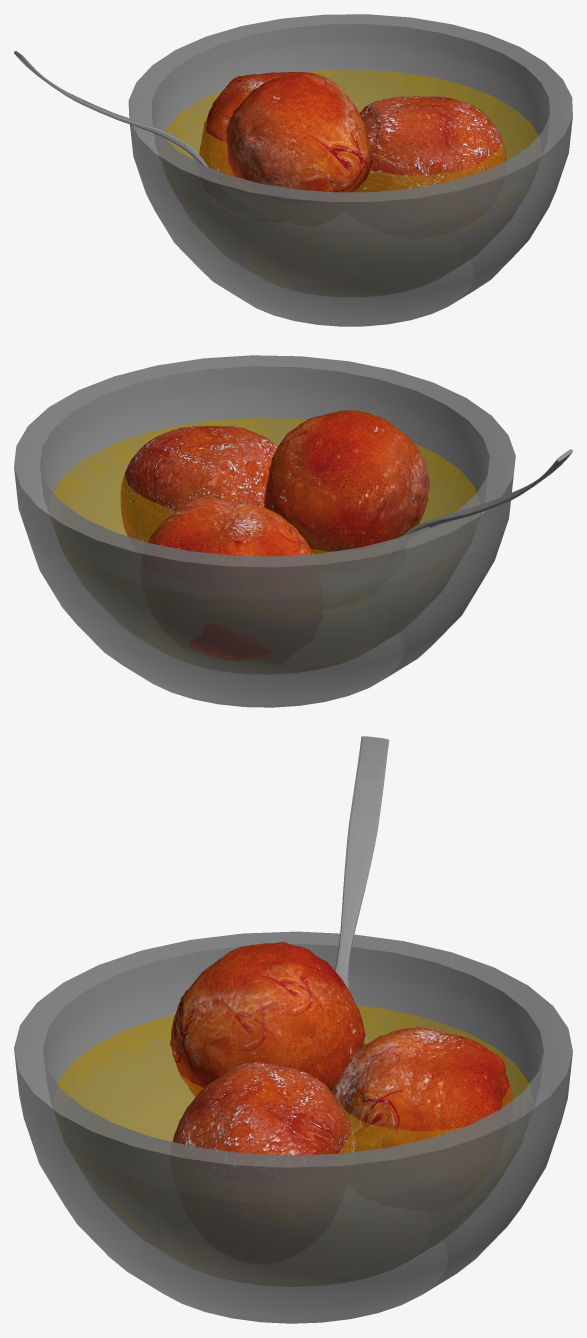
Rendered from gulab_jamun.glb.
The picture shows the model from 3 angles, top to bottom: view 1: azimuth 30°, elevation 25°; view 2: azimuth 150°, elevation 25°; view 3: azimuth 270°, elevation 25°; orthographic projection. The views are drawn at different scales.
Visible parts, largest first — view 1: glass, gl04_2, gl01_2, shirop, gl02_2, Spoon; view 2: glass, gl04_2, gl01_2, shirop, gl02_2, Spoon; view 3: glass, gl04_2, gl02_2, shirop, gl01_2, Spoon.
Boxes of the visible parts, x1=… form: glass: x1=128, y1=14, x2=572, y2=326; gl04_2: x1=226, y1=73, x2=372, y2=192; gl01_2: x1=359, y1=96, x2=506, y2=192; shirop: x1=165, y1=69, x2=538, y2=245; gl02_2: x1=199, y1=72, x2=348, y2=176; Spoon: x1=14, y1=51, x2=208, y2=166; glass: x1=14, y1=355, x2=515, y2=707; gl04_2: x1=264, y1=410, x2=429, y2=553; gl01_2: x1=120, y1=426, x2=277, y2=542; shirop: x1=53, y1=418, x2=476, y2=612; gl02_2: x1=148, y1=497, x2=313, y2=660; Spoon: x1=401, y1=449, x2=572, y2=536; glass: x1=14, y1=931, x2=572, y2=1323; gl04_2: x1=169, y1=941, x2=365, y2=1096; gl02_2: x1=331, y1=1027, x2=513, y2=1151; shirop: x1=57, y1=1005, x2=529, y2=1217; gl01_2: x1=172, y1=1062, x2=356, y2=1155; Spoon: x1=335, y1=736, x2=389, y2=1044.
Bounding box in the file's own units: 5.74 × 3 × 4.49.
Materials: 6 (3 with a texture image).
